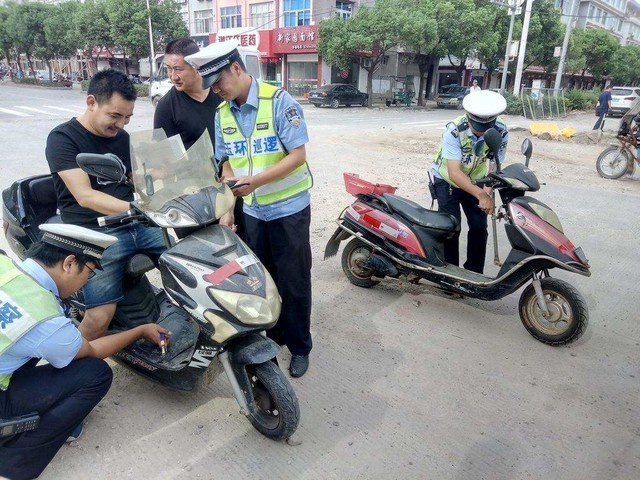non-vehicle: (0, 168, 299, 443), (327, 158, 589, 348)
